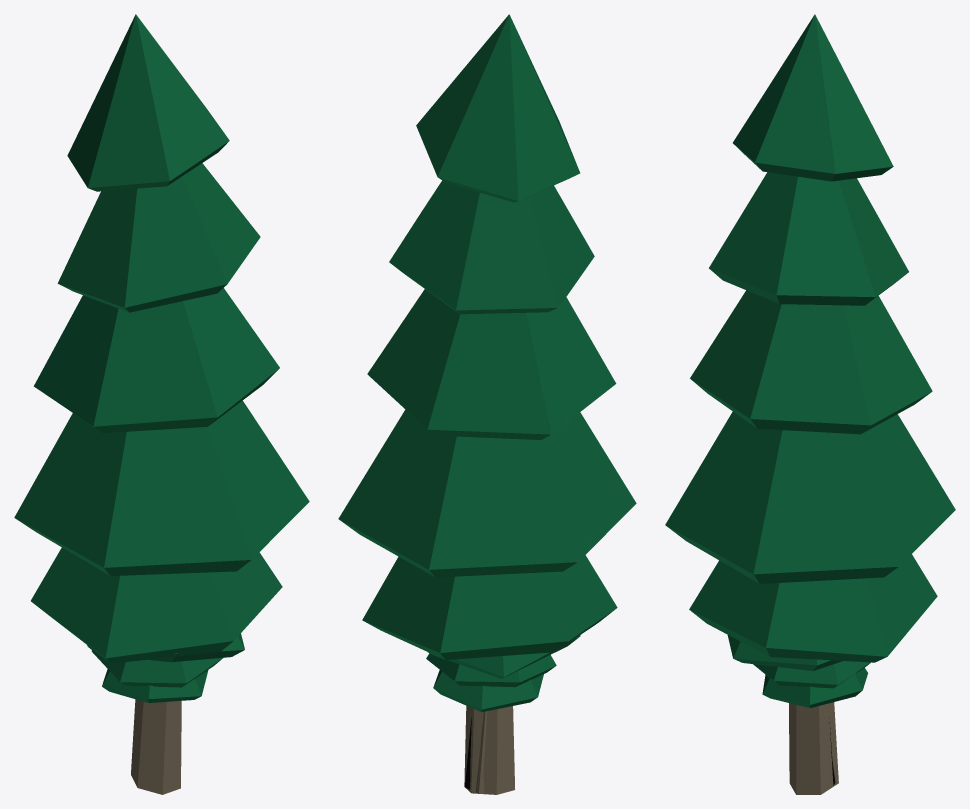
File: spruce.fbx
3 renders of one model, left to right at view 1: azimuth 30°, elevation 25°; view 2: azimuth 150°, elevation 25°; view 3: azimuth 270°, elevation 25°, orthographic. The views are drawn at different scales.
Parts seen in each view (by area): view 1: large pine, medium pine, small pine; view 2: large pine, medium pine, small pine; view 3: large pine, medium pine, small pine.
Boxes of the visible parts, x1=… form: large pine: x1=14, y1=14, x2=309, y2=794; medium pine: x1=31, y1=547, x2=282, y2=687; small pine: x1=87, y1=633, x2=244, y2=702; large pine: x1=338, y1=14, x2=636, y2=794; medium pine: x1=362, y1=555, x2=617, y2=687; small pine: x1=428, y1=635, x2=580, y2=793; large pine: x1=665, y1=14, x2=955, y2=794; medium pine: x1=689, y1=554, x2=937, y2=688; small pine: x1=727, y1=635, x2=867, y2=786.
Size of the model in its own units: 146 by 456 by 157.
